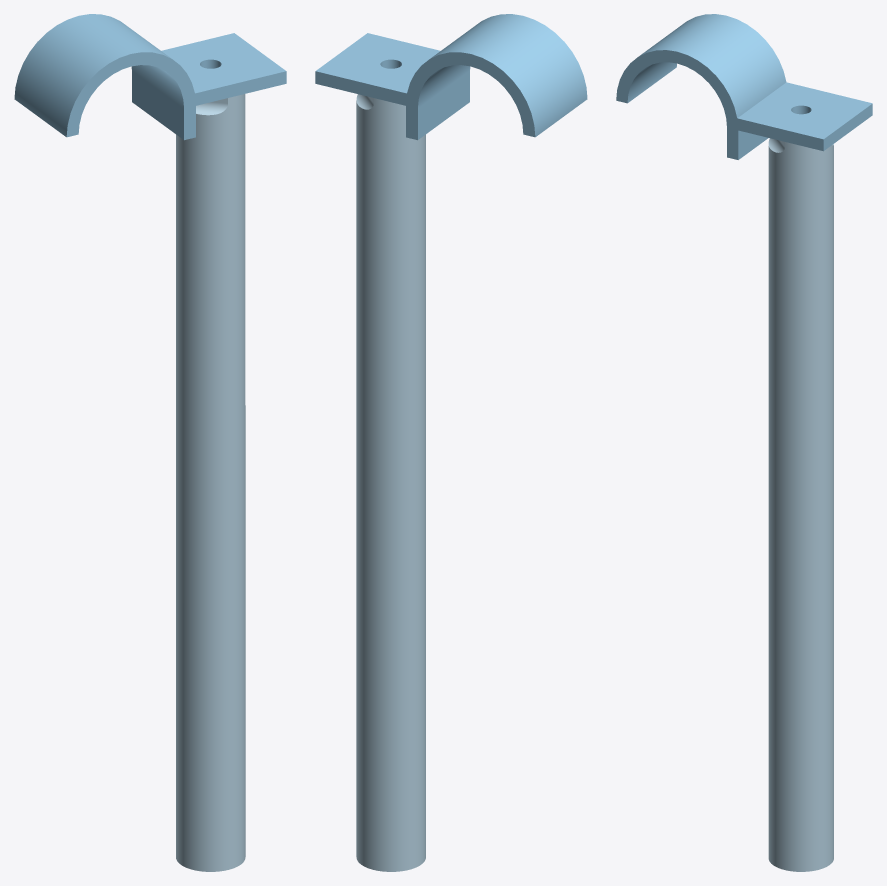
3 renders of one model, left to right at view 1: azimuth 30°, elevation 25°; view 2: azimuth 150°, elevation 25°; view 3: azimuth 330°, elevation 25°, orthographic. The views are drawn at different scales.
Parts seen in each view (by area): view 1: Dart shaft, hook; view 2: Dart shaft, hook; view 3: Dart shaft, hook.
Boxes of the visible parts, left/top/right/bottom form: Dart shaft: left=176, top=94, right=245, bottom=871; hook: left=14, top=14, right=286, bottom=140; Dart shaft: left=356, top=94, right=425, bottom=871; hook: left=315, top=14, right=587, bottom=140; Dart shaft: left=768, top=138, right=833, bottom=871; hook: left=616, top=14, right=872, bottom=159.
Size of the model in its own units: 0.0927 by 0.3418 by 0.0381.
